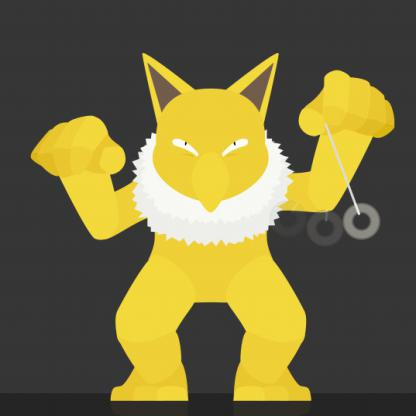Hypno: (43, 50, 402, 402)
